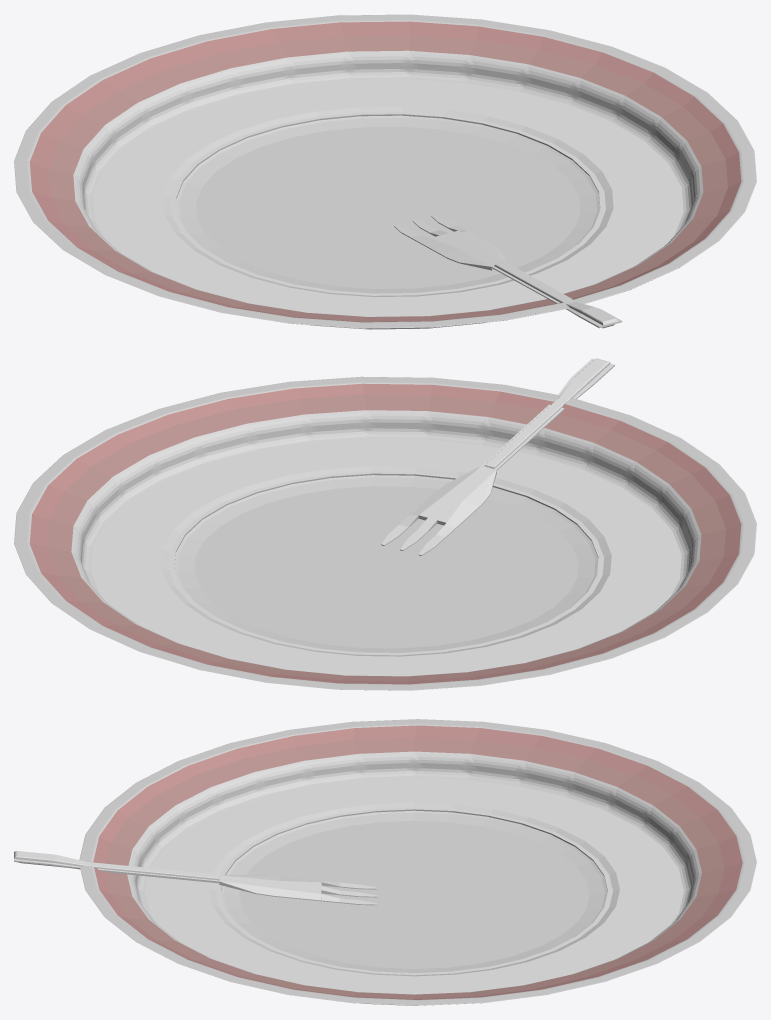
Rendered from plate4.fbx.
The picture shows the model from 3 angles, top to bottom: view 1: azimuth 30°, elevation 25°; view 2: azimuth 150°, elevation 25°; view 3: azimuth 270°, elevation 25°; orthographic projection. The views are drawn at different scales.
Parts seen in each view (by area): view 1: prato3, garfo; view 2: prato3, garfo; view 3: prato3, garfo.
Boxes of the visible parts, bbox=[...] form: prato3: bbox=[14, 14, 756, 329]; garfo: bbox=[394, 215, 622, 328]; prato3: bbox=[14, 376, 756, 690]; garfo: bbox=[381, 358, 614, 555]; prato3: bbox=[79, 719, 756, 1005]; garfo: bbox=[14, 851, 377, 905].
Size of the model in its own units: 157 by 10.91 by 172.
